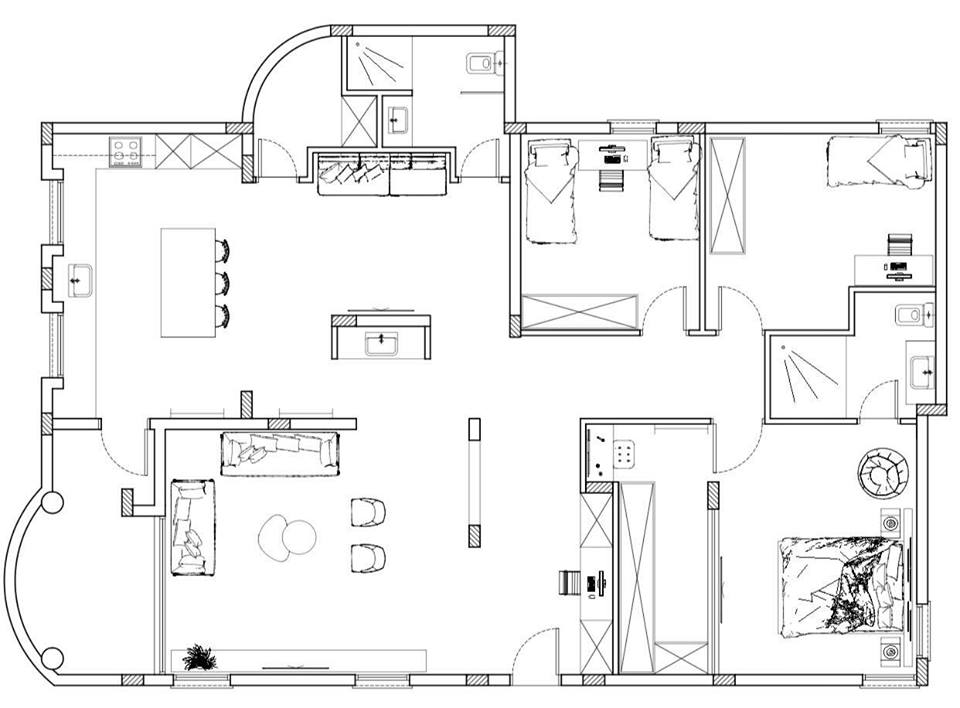door: (705, 427, 767, 476), (504, 625, 566, 674), (97, 433, 153, 482), (634, 277, 690, 326), (712, 278, 768, 327), (848, 370, 904, 419)
window: (48, 179, 65, 247), (46, 311, 63, 379), (172, 672, 230, 688), (353, 671, 411, 687), (914, 603, 931, 657), (879, 118, 932, 135), (606, 120, 659, 137), (863, 674, 917, 687)
